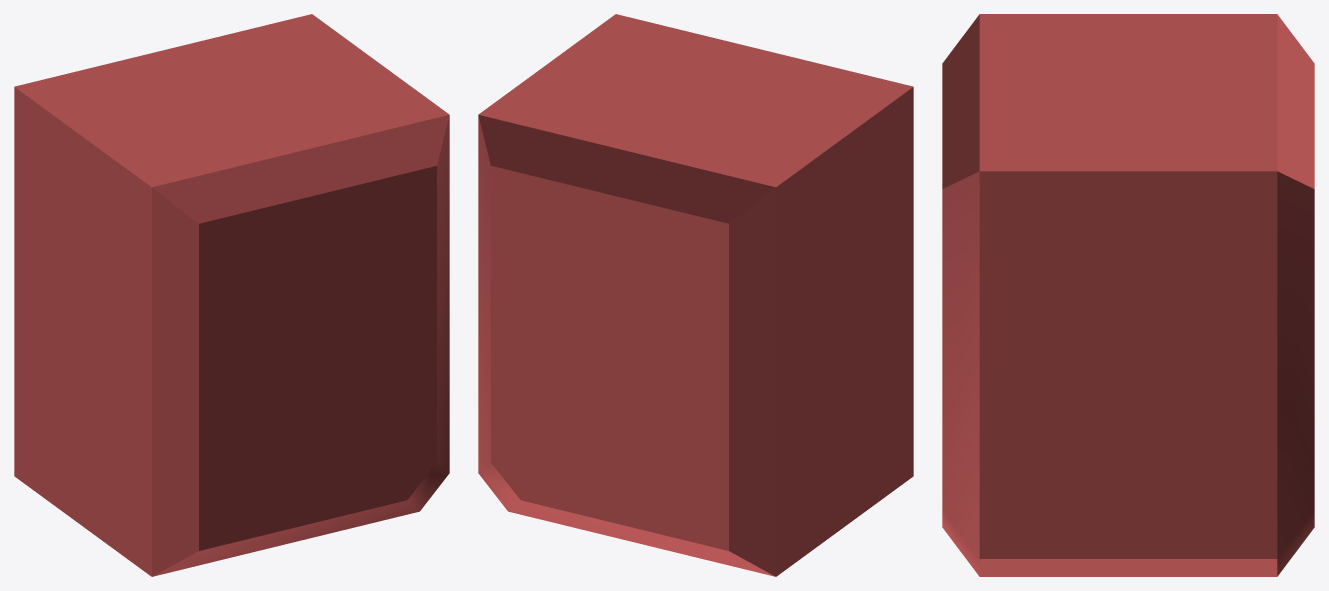
File: SM_Wall_25x20.fbx
3 views of the same model, side by side, from view 1: azimuth 30°, elevation 25°; view 2: azimuth 150°, elevation 25°; view 3: azimuth 270°, elevation 25° (orthographic). The views are drawn at different scales.
Visible parts, largest first — view 1: SM_Wall_25x20:Wall_25x20; view 2: SM_Wall_25x20:Wall_25x20; view 3: SM_Wall_25x20:Wall_25x20.
Boxes of the visible parts, x1=… form: SM_Wall_25x20:Wall_25x20: x1=14, y1=14, x2=449, y2=576; SM_Wall_25x20:Wall_25x20: x1=478, y1=14, x2=913, y2=576; SM_Wall_25x20:Wall_25x20: x1=942, y1=14, x2=1314, y2=576.
Bounding box in the file's own units: 20 × 25 × 20.
